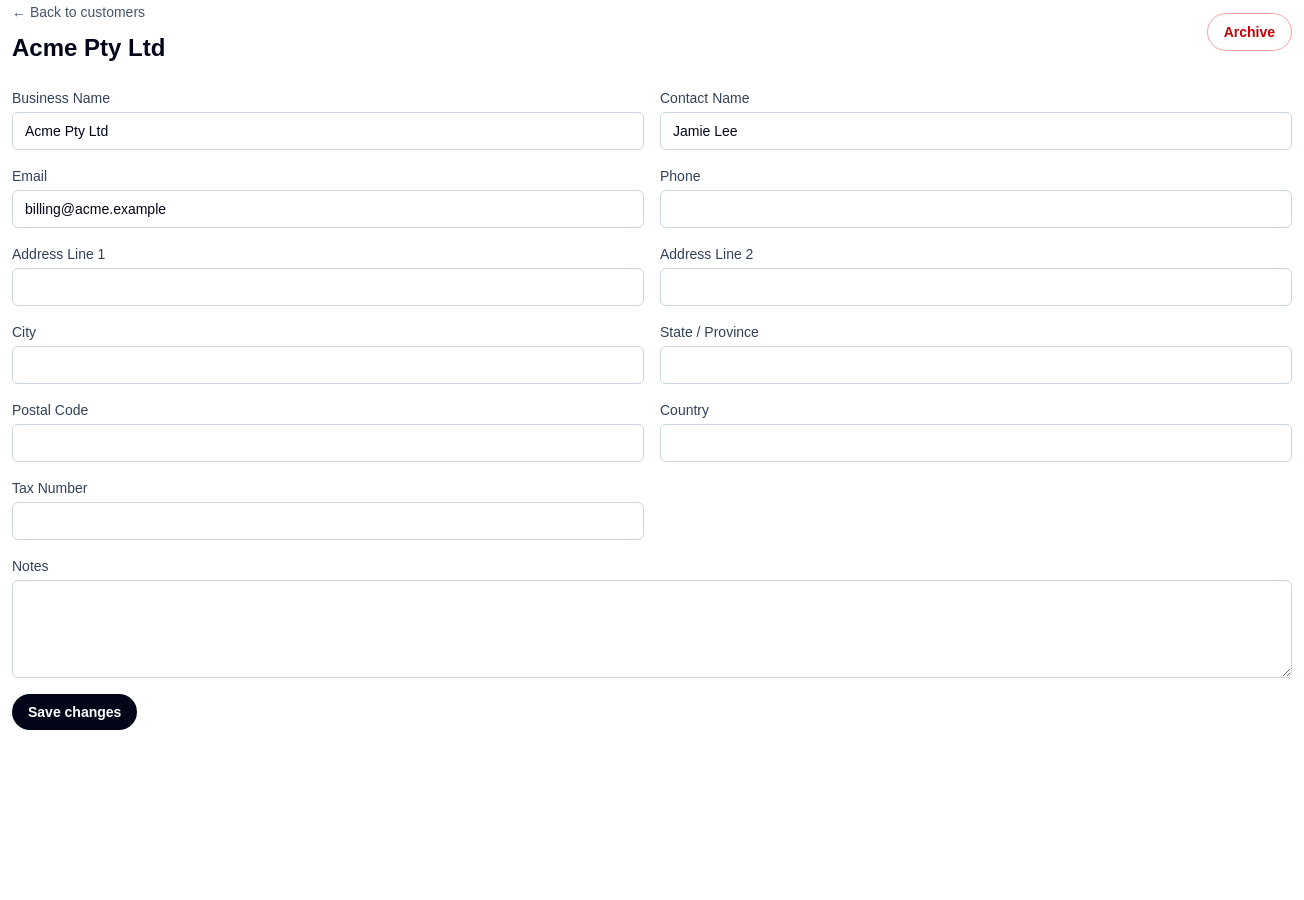
Test: CustomerDetail › loads the customer, pre-fills the form and saves changes
expect the field labelled "Business Name" holds "Acme Pty Ltd": met, box [12,112,644,150]
Replace the text in the field labelled "Contact Name" with "Updated Contact". click: x=976, y=131
box: [660,112,1292,150]
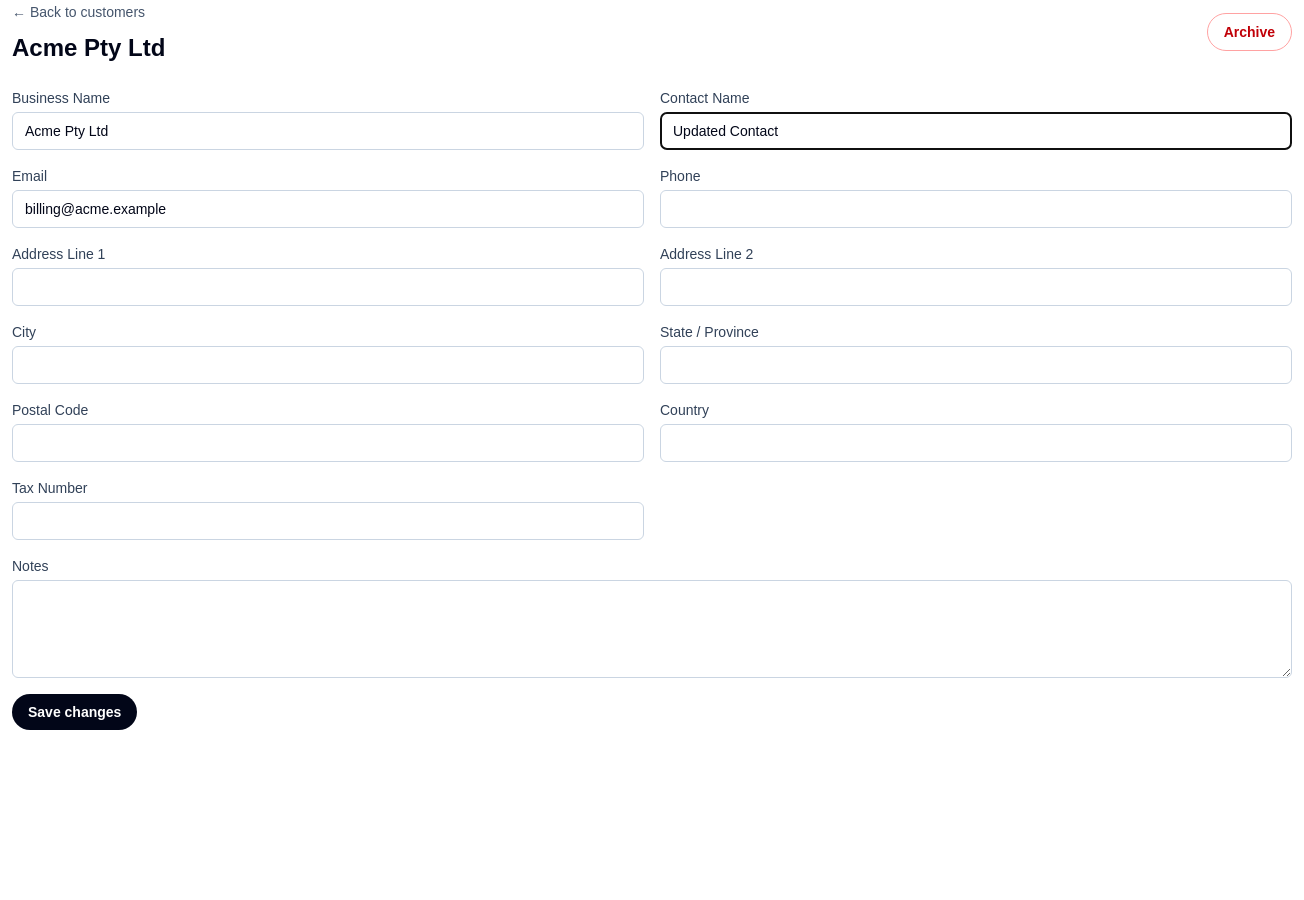
Click the button "Save changes". click: x=75, y=712
box: [12,694,137,730]
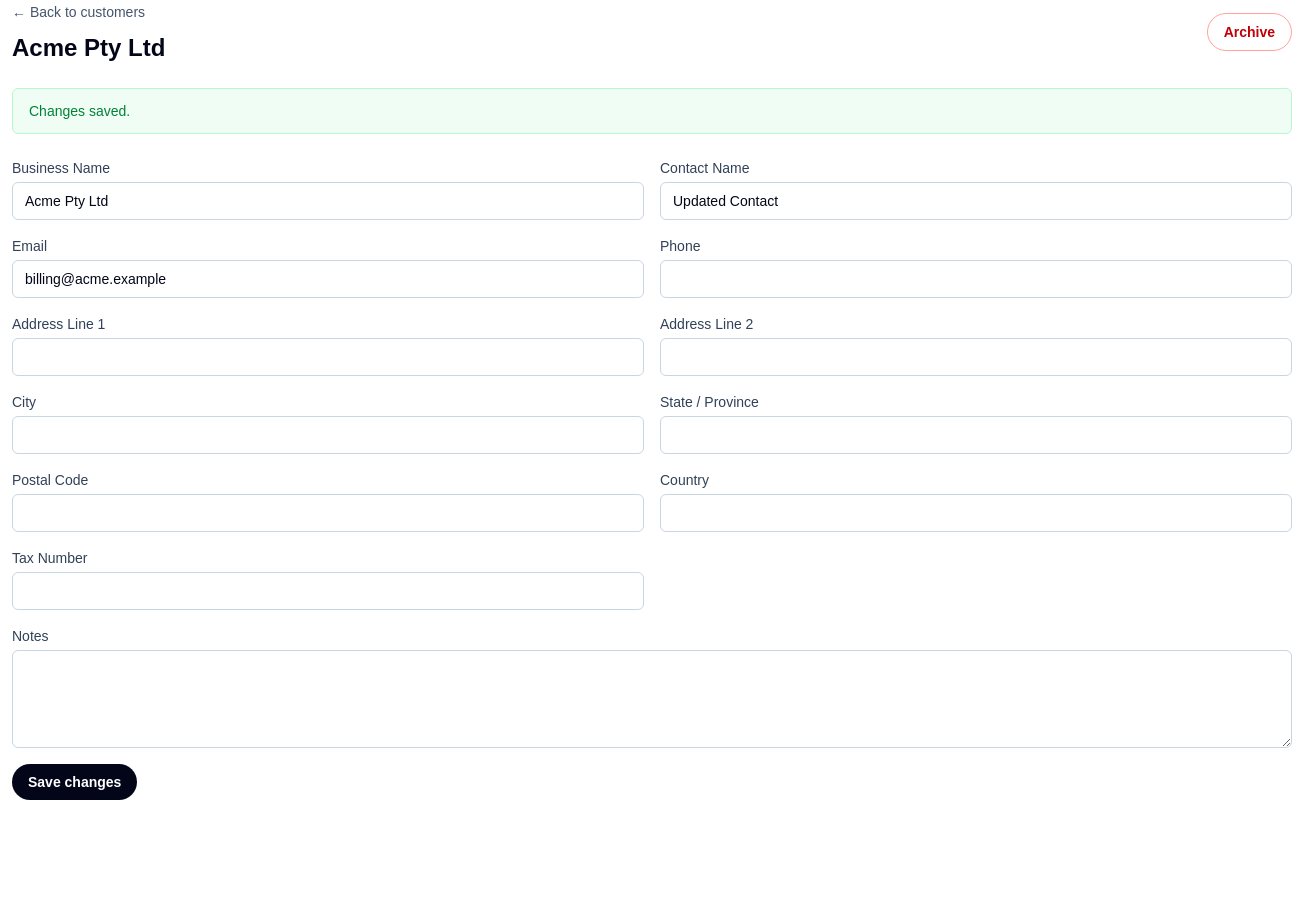
expect the message reads "Changes saved.": met, box [29,103,130,119]
